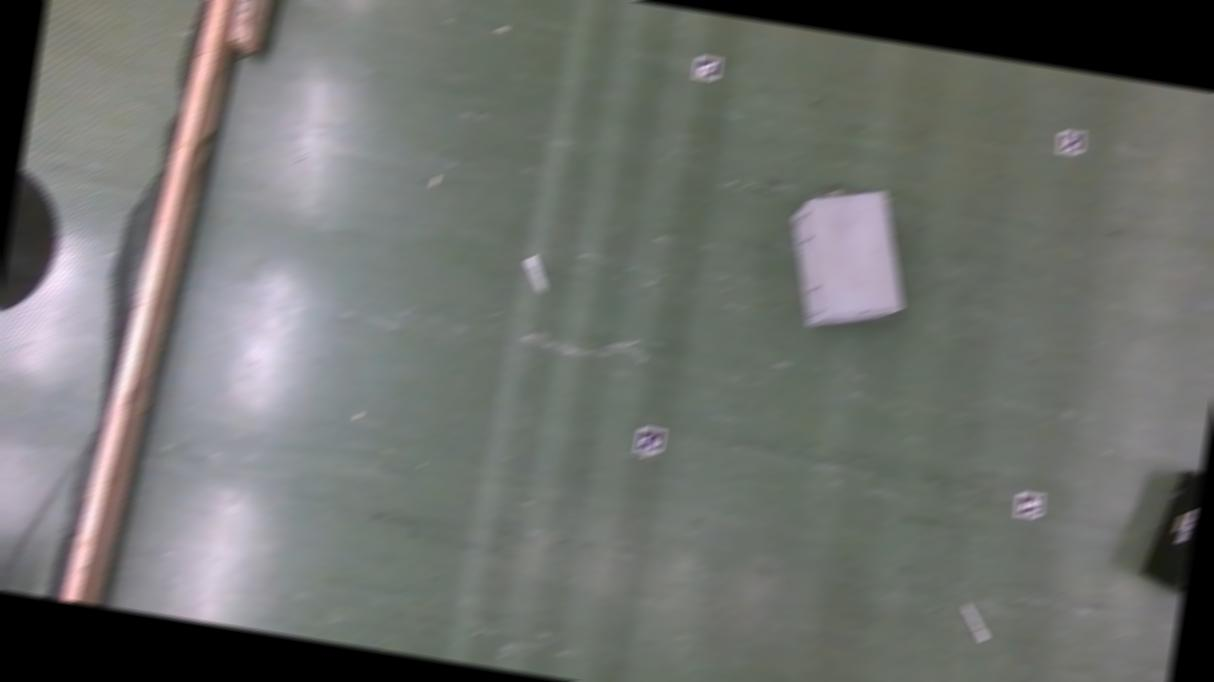probes: (958, 606, 991, 642), (520, 258, 548, 294)
rako: (774, 180, 920, 342), (1136, 465, 1202, 606)
